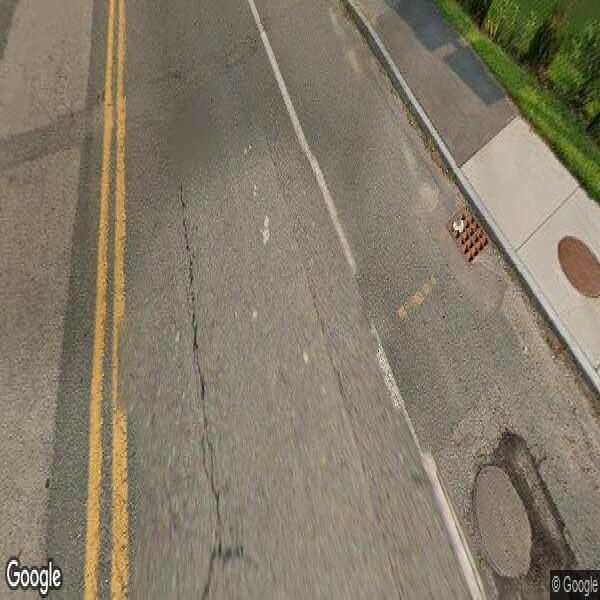manhole: (550, 222, 600, 312), (443, 199, 491, 264)
